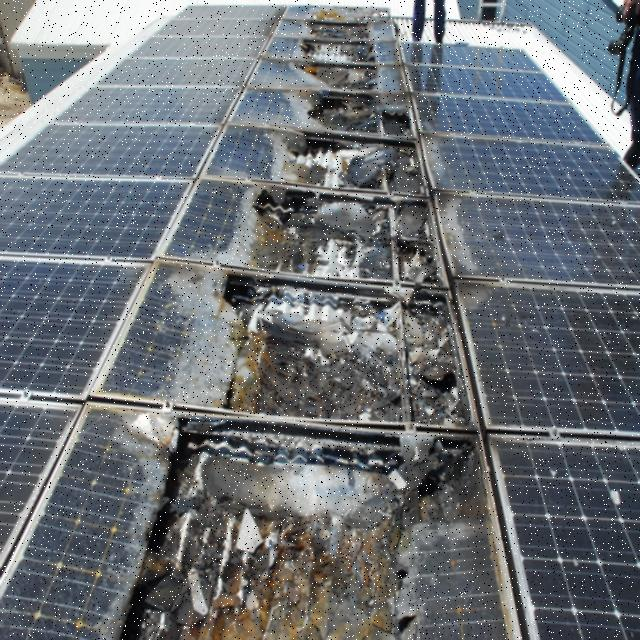electrical damage: (17, 8, 520, 635)
